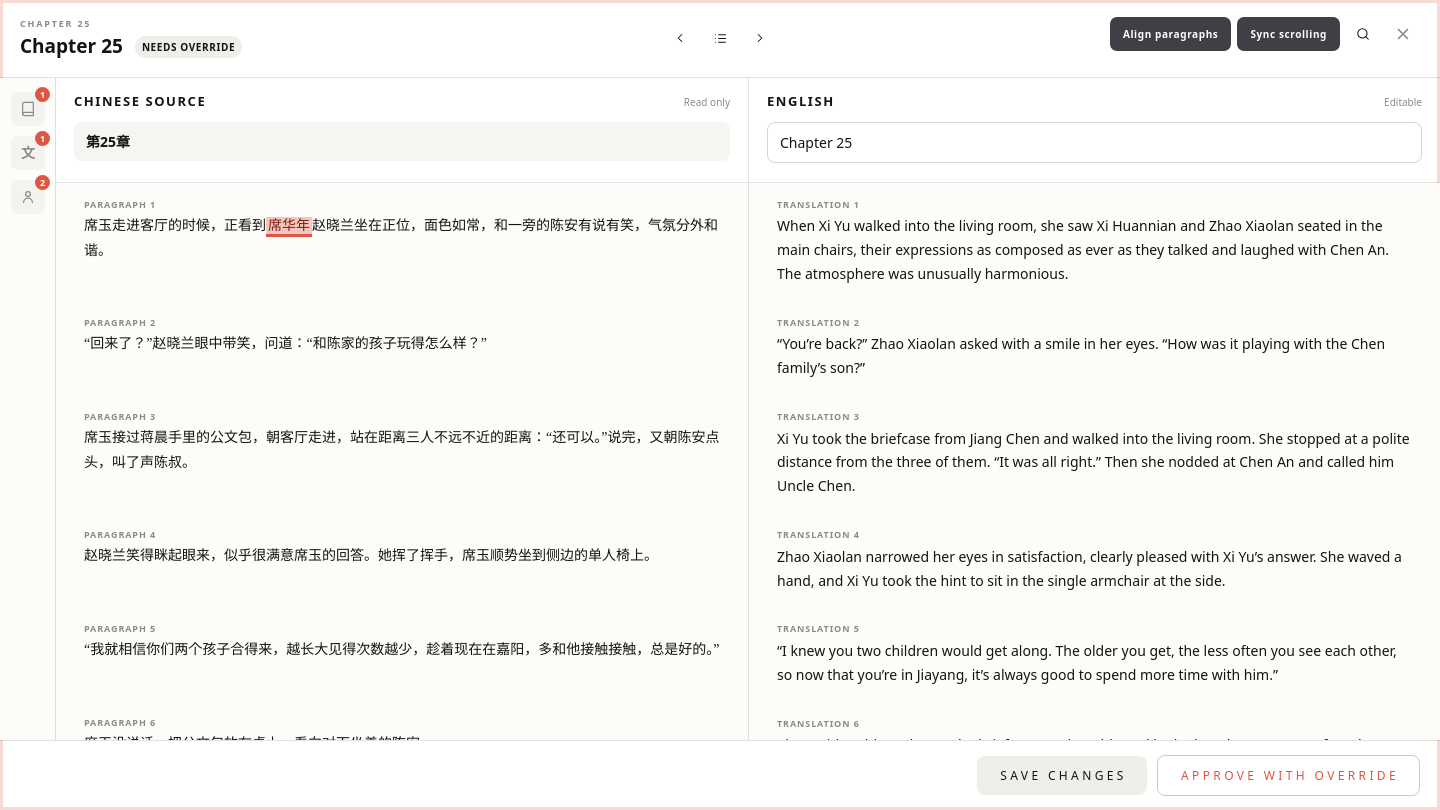
Test: closes Retranslate via Cancel and restores reviewer semantics and opener focus
The image size is (1440, 810).
Click the button named "warnings" at [28, 109], box [11,92,45,126]
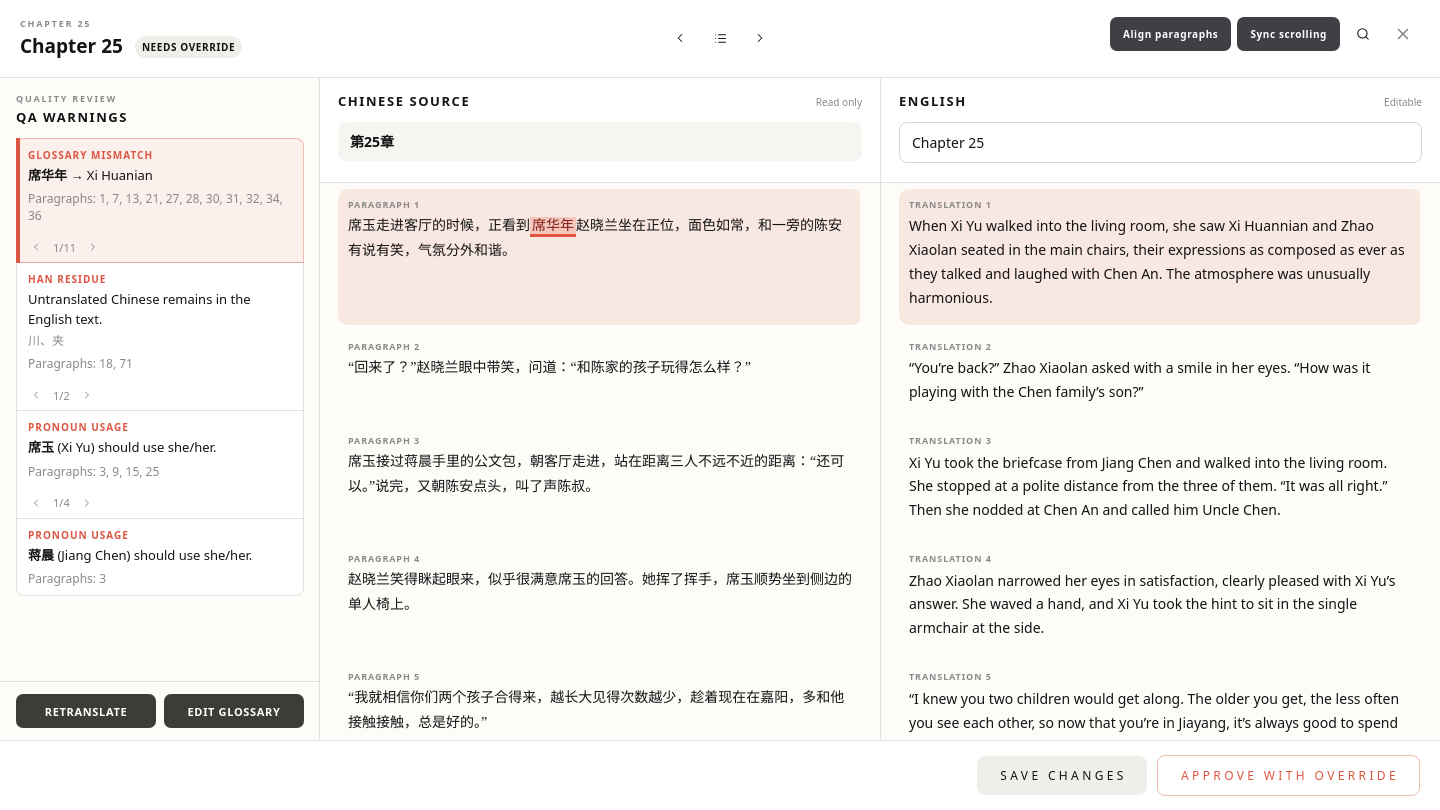
Click the button "Retranslate" at [86, 711], box [16,694,156,728]
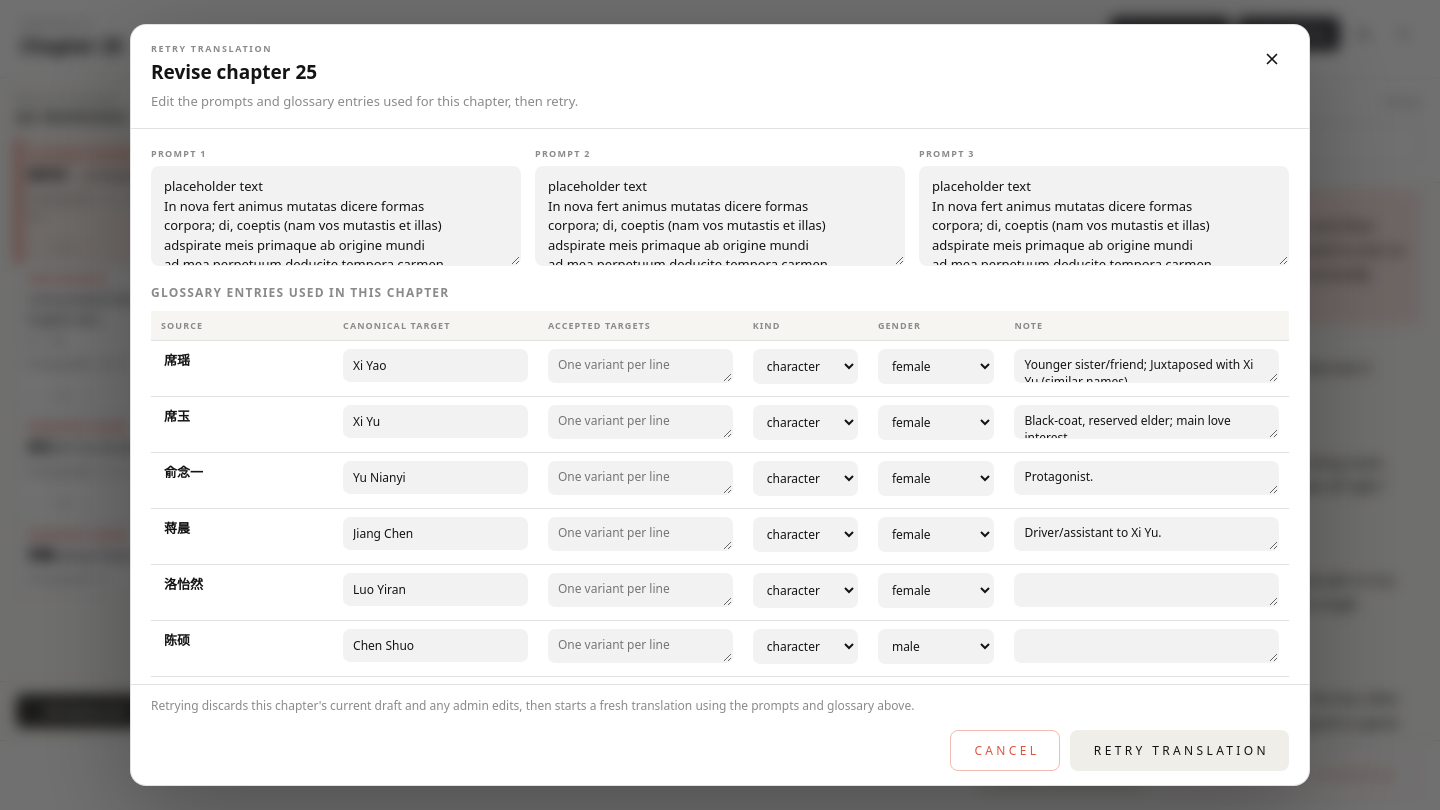
Click the button "Cancel" at [1005, 750], box [950,730,1060,771]
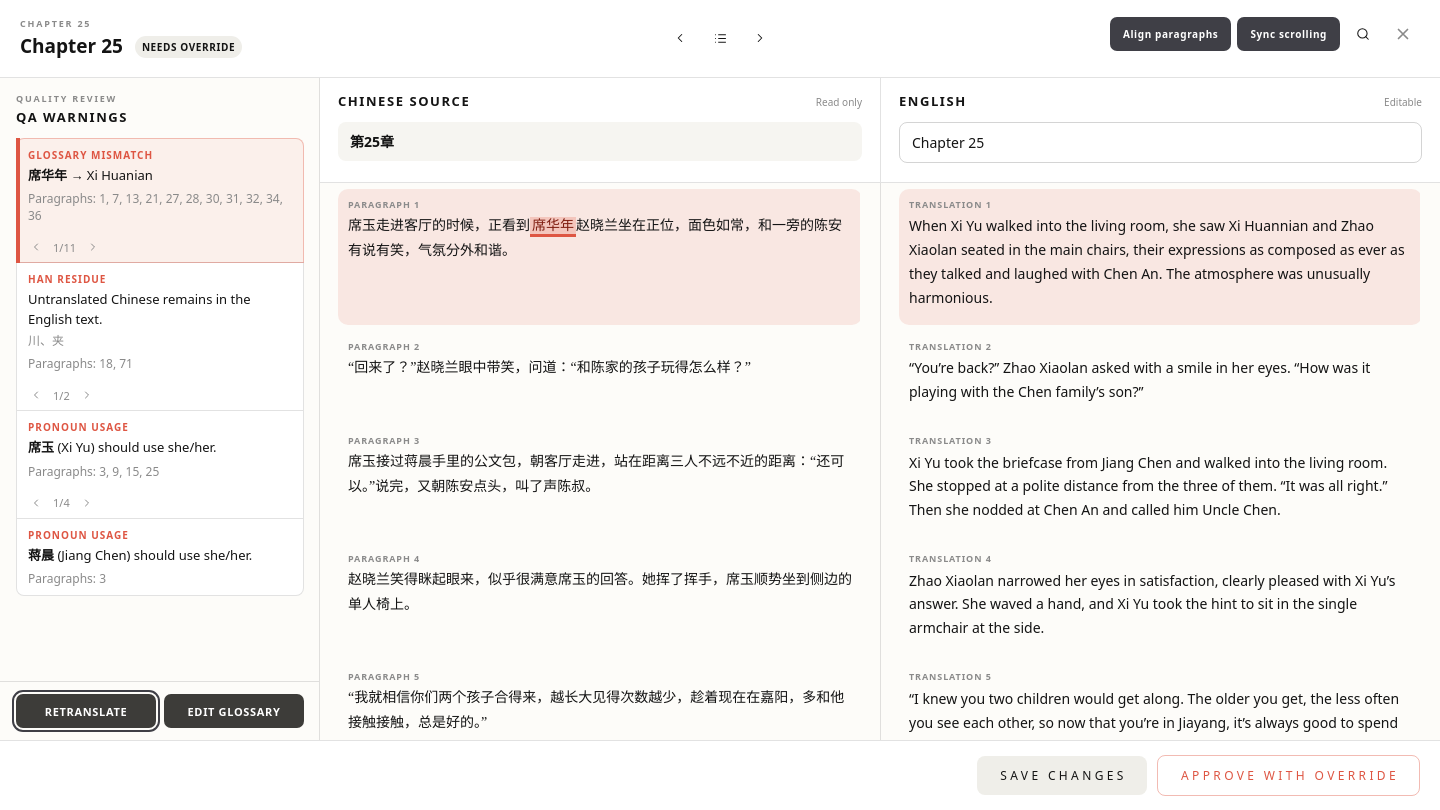
Expected: the heading "Revise chapter 25" is gone
